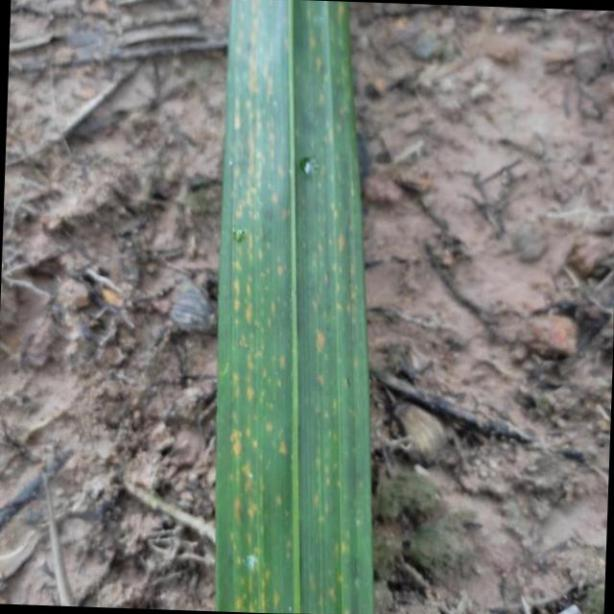Kalium: (214, 1, 377, 614)
